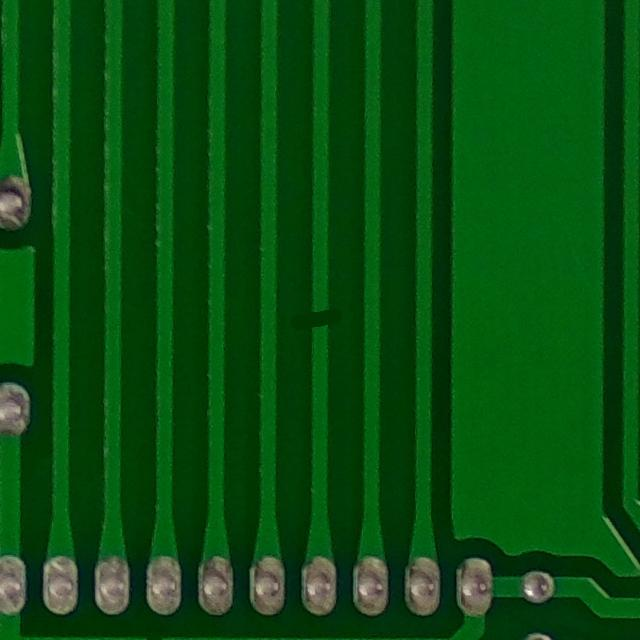open_circuit: (299, 296, 341, 345)
